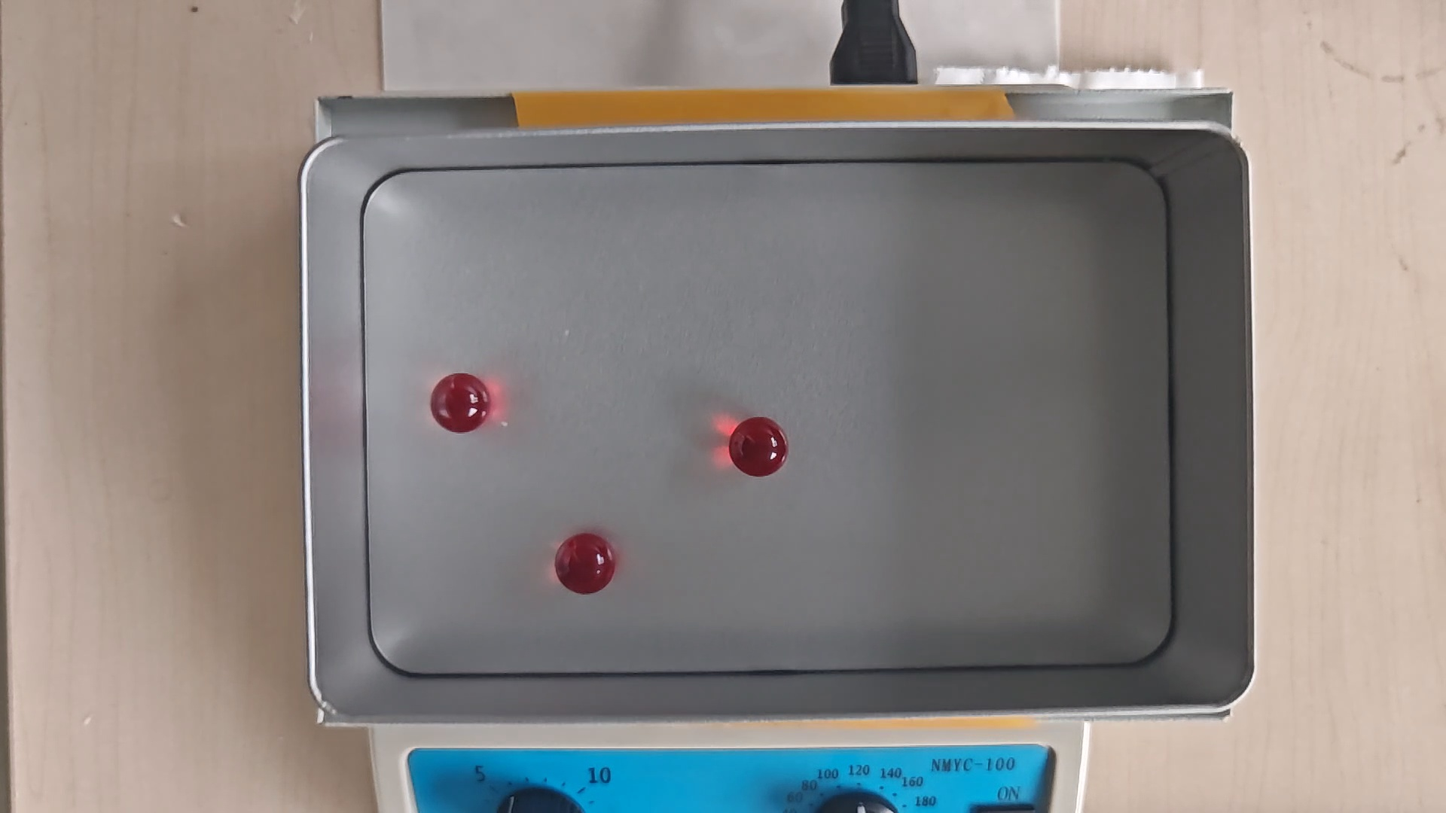ball: (728, 416, 790, 479), (557, 534, 615, 595), (430, 375, 487, 435)
container: (365, 161, 1171, 673)
